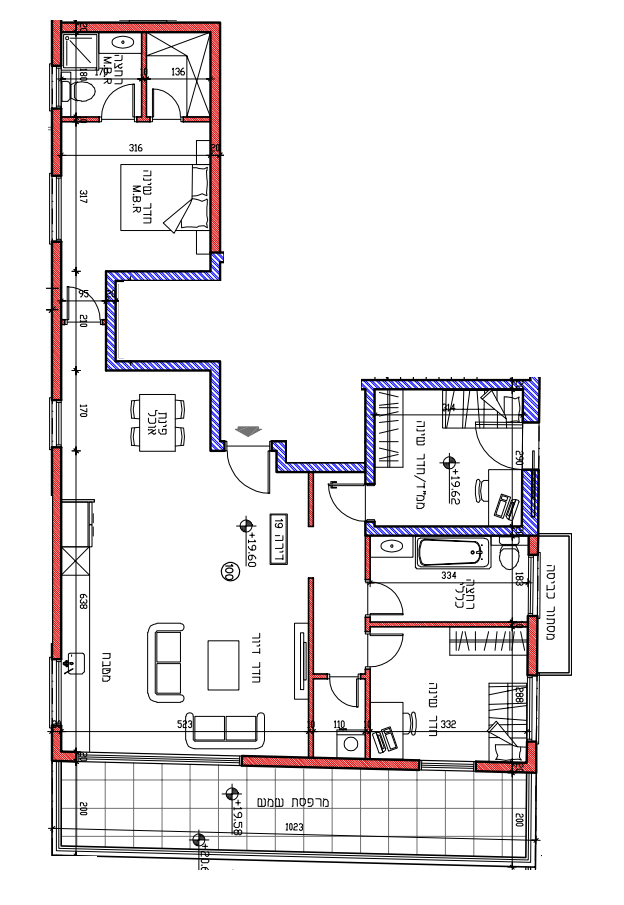door: (322, 477, 360, 530), (220, 460, 271, 498), (375, 632, 413, 671), (372, 580, 410, 616), (100, 83, 139, 113), (64, 285, 98, 318), (149, 85, 182, 115), (325, 685, 361, 711)
wall: (362, 379, 539, 390), (51, 449, 60, 659), (211, 24, 219, 250), (367, 526, 535, 535), (108, 360, 220, 369), (366, 620, 509, 627), (106, 273, 116, 371), (88, 24, 219, 31), (107, 271, 217, 279), (211, 361, 221, 448), (276, 462, 365, 470), (524, 381, 539, 421)
window: (44, 657, 67, 728), (524, 676, 546, 742), (46, 175, 67, 244), (525, 554, 547, 619), (418, 755, 476, 774), (44, 398, 64, 449), (47, 65, 64, 110)
